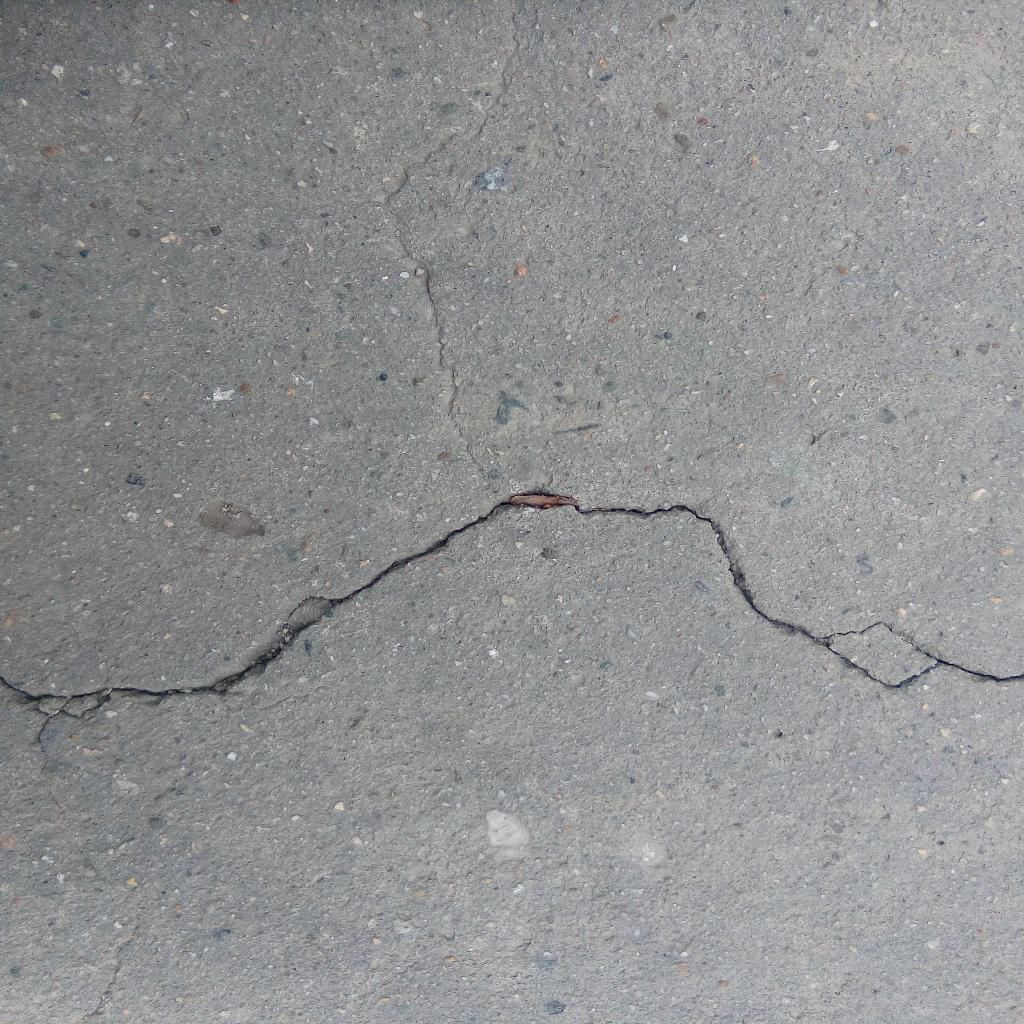Crack: (1, 491, 1024, 727), (382, 1, 522, 472)
